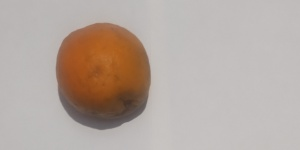BAD: (58, 22, 150, 127)
